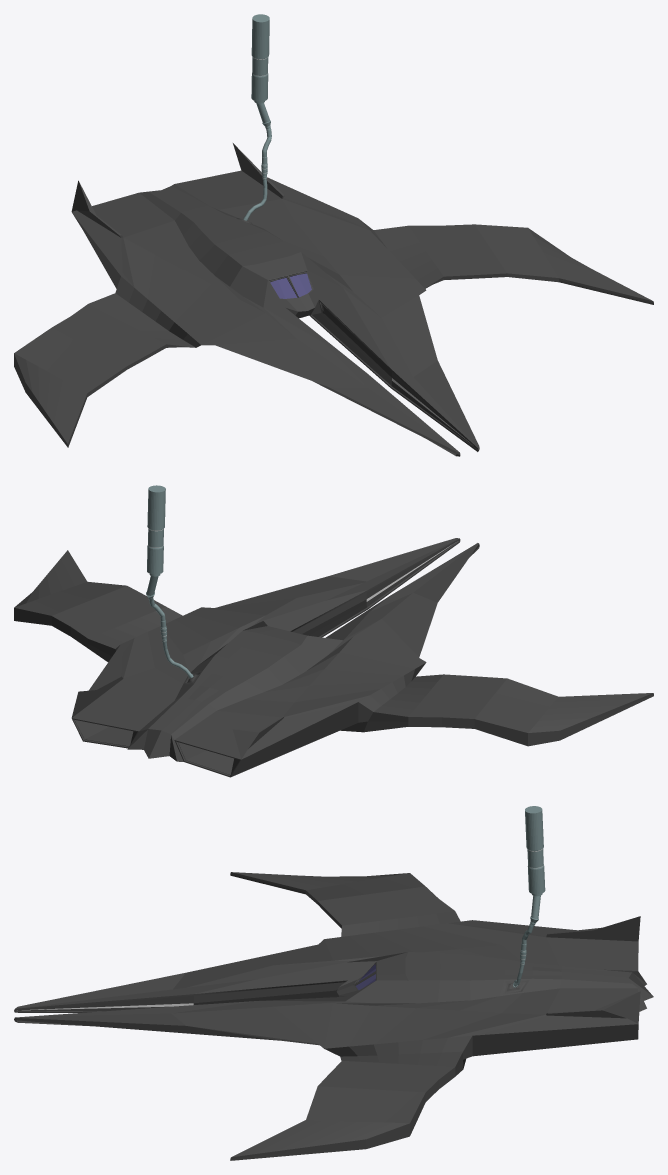
Rendered from AlienEscapeShip.fbx.
3 renders of one model, top to bottom at view 1: azimuth 30°, elevation 25°; view 2: azimuth 150°, elevation 25°; view 3: azimuth 270°, elevation 25°, orthographic.
Parts seen in each view (by area): view 1: Cube_Cube.001, Cylinder; view 2: Cube_Cube.001, Cylinder; view 3: Cube_Cube.001, Cylinder.
Part boxes in pixels (bbox=[...]): Cube_Cube.001: bbox=[14, 143, 653, 456]; Cylinder: bbox=[243, 14, 271, 220]; Cube_Cube.001: bbox=[14, 538, 653, 777]; Cylinder: bbox=[146, 485, 193, 678]; Cube_Cube.001: bbox=[14, 872, 653, 1160]; Cylinder: bbox=[513, 806, 545, 987].
Bounding box in the file's own units: 2962 × 1138 × 2808.
